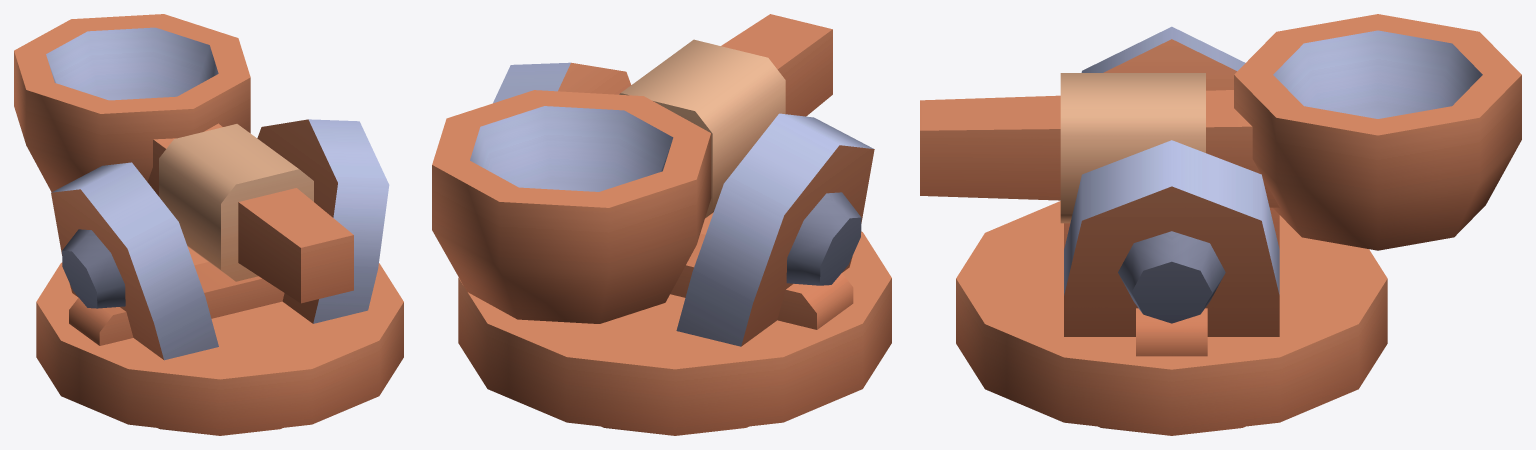
Rendered from weapon-catapult.glb.
3 renders of one model, left to right at view 1: azimuth 30°, elevation 25°; view 2: azimuth 150°, elevation 25°; view 3: azimuth 270°, elevation 25°, orthographic. The views are drawn at different scales.
Parts seen in each view (by area): view 1: weapon-catapult, catapult; view 2: weapon-catapult, catapult; view 3: weapon-catapult, catapult.
Boxes of the visible parts, left/top/right/bottom form: weapon-catapult: left=36, top=119, right=403, bottom=435; catapult: left=14, top=14, right=353, bottom=303; weapon-catapult: left=458, top=62, right=891, bottom=435; catapult: left=432, top=14, right=832, bottom=323; weapon-catapult: left=956, top=26, right=1387, bottom=435; catapult: left=920, top=14, right=1521, bottom=250.
Bounding box in the file's own units: 0.6 × 0.4625 × 0.8366.
1 material, 1 textured.
